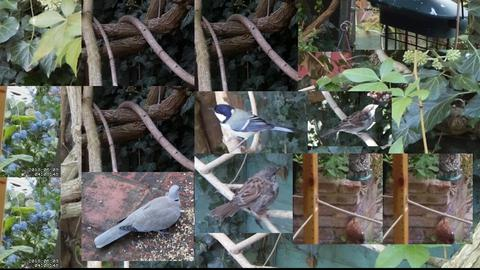collared dove: (94, 184, 181, 248)
dunnock: (207, 166, 280, 220)
great tit: (207, 104, 295, 153)
sparrow: (320, 104, 379, 139)
